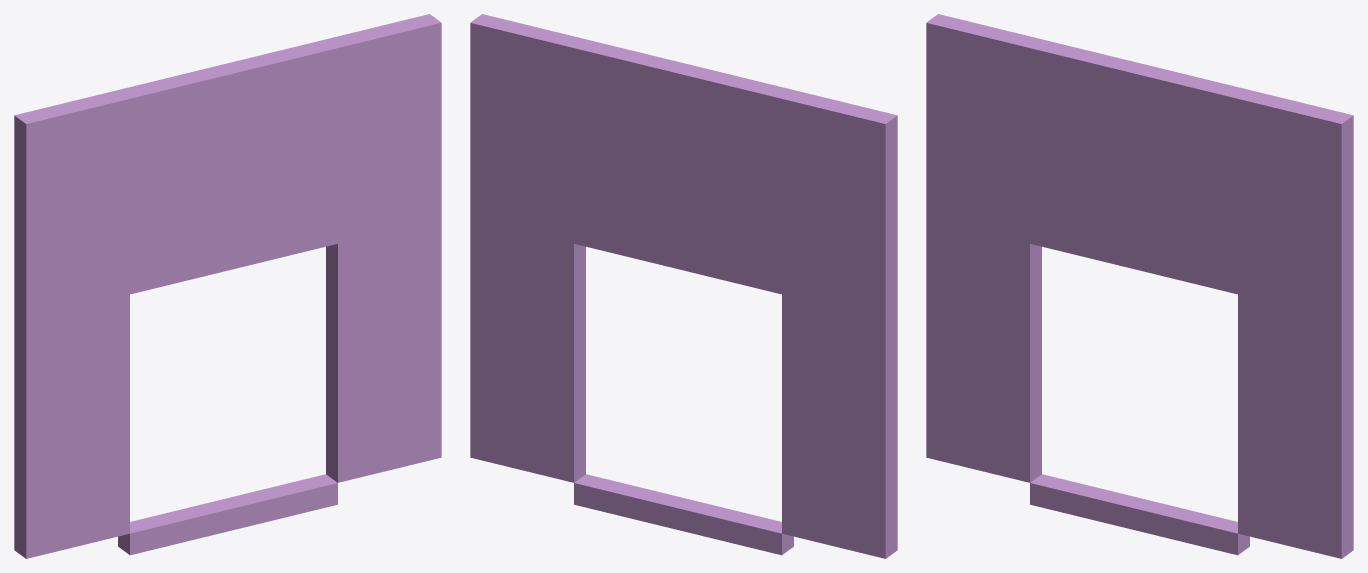
Rendered from window_castle.glb.
3 renders of one model, left to right at view 1: azimuth 30°, elevation 25°; view 2: azimuth 150°, elevation 25°; view 3: azimuth 330°, elevation 25°, orthographic.
Visible parts, largest first — view 1: window_castle_L, window_castle_R, window_castle_T, window_castle_B; view 2: window_castle_L, window_castle_R, window_castle_T, window_castle_B; view 3: window_castle_R, window_castle_L, window_castle_T, window_castle_B.
Part boxes in pixels (x1,y1,x2,y2): window_castle_L: (14, 90, 129, 558); window_castle_R: (326, 14, 441, 482); window_castle_T: (118, 39, 337, 294); window_castle_B: (118, 474, 337, 555); window_castle_L: (782, 90, 897, 558); window_castle_R: (470, 14, 585, 482); window_castle_T: (574, 39, 793, 294); window_castle_B: (574, 474, 793, 555); window_castle_R: (1238, 90, 1353, 558); window_castle_L: (926, 14, 1041, 482); window_castle_T: (1030, 39, 1249, 294); window_castle_B: (1030, 474, 1249, 555).
Bounding box in the file's own units: 1 × 1.05 × 0.05.
